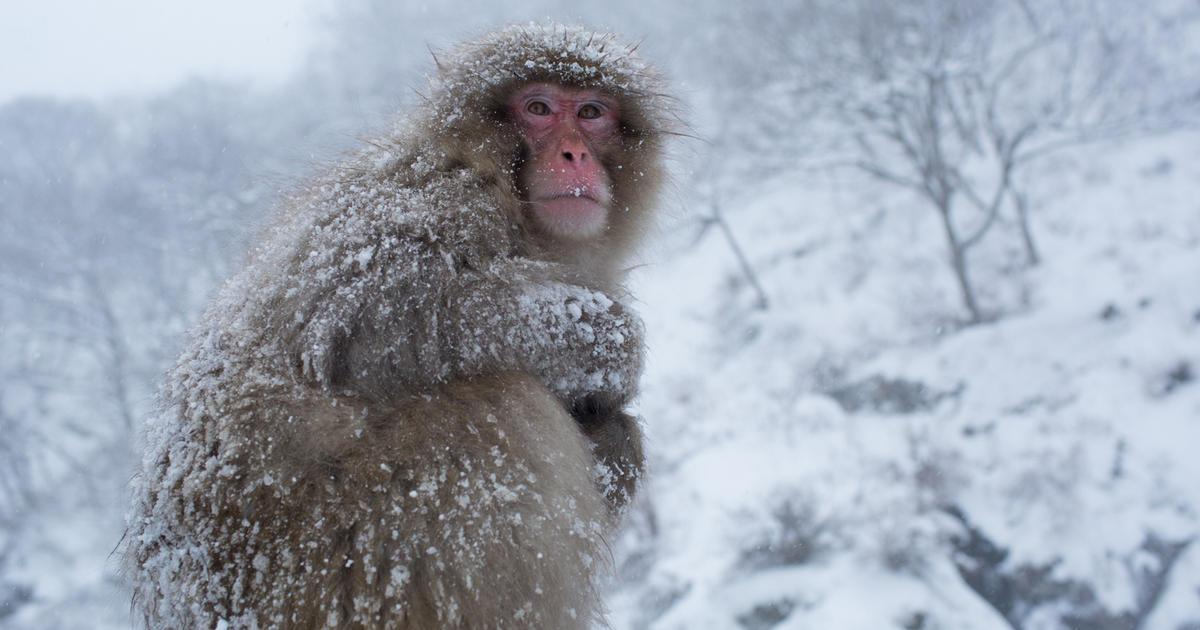monkey: (118, 23, 694, 630)
